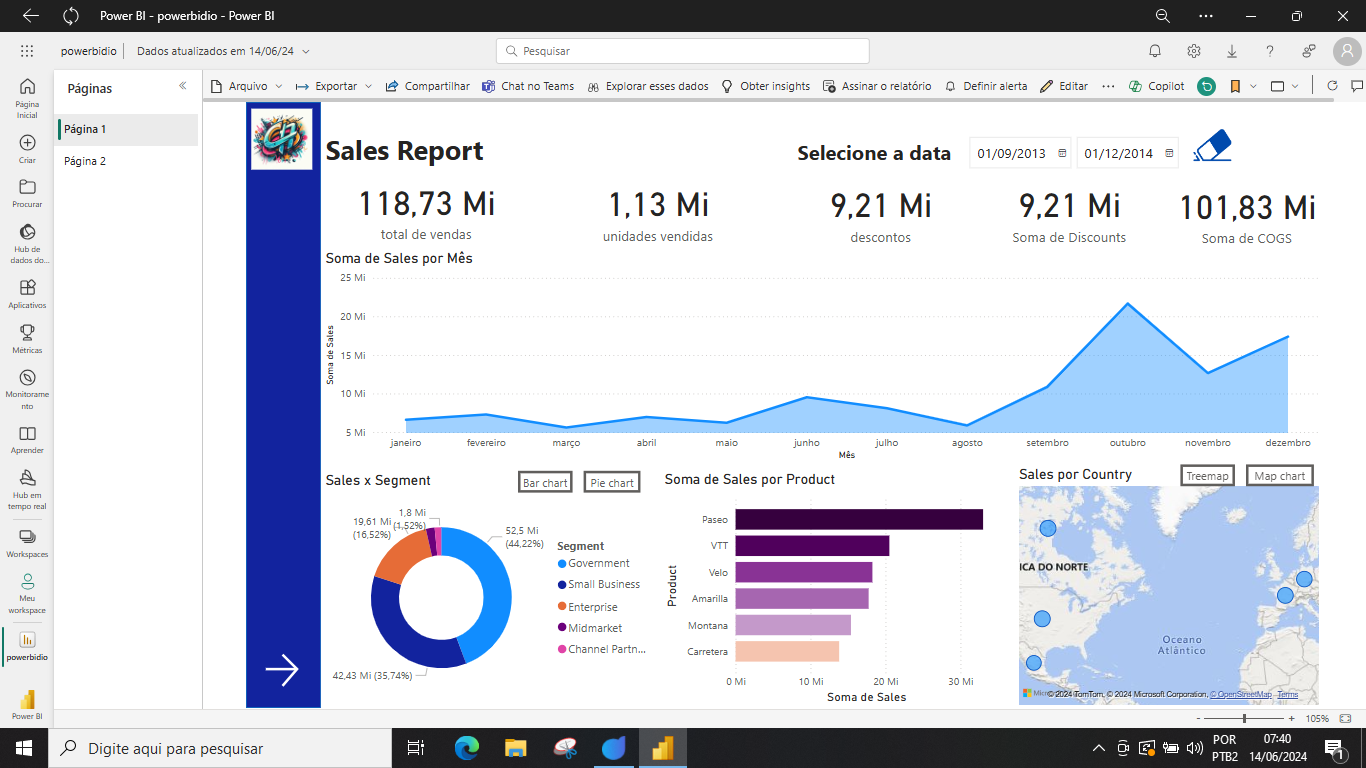

The dashboard page shown, as its layout file describes it:
{"tool":"powerbi","page":{"name":"Página 1","canvas":[1280,720],"ordinal":0},"visuals":[{"type":"slicer","fields":{"Values":["financials.Date"]},"box":[846.6,32,329.2,55.4],"z":0,"group":"g1"},{"type":"areaChart","fields":{"Category":["financials.Date.Variation.Hierarquia de datas.Mês"],"Y":["Sum(financials. Sales)"]},"box":[88.9,174.7,1191.1,255.7],"z":0},{"type":"map","title":"  Sales por Country","fields":{"Category":["financials.Country"],"Size":["Sum(financials. Sales)"]},"box":[913.6,431.3,366.4,289.7],"z":0,"group":"g2"},{"type":"clusteredBarChart","title":" Sales x Segment","fields":{"Y":["Sum(financials. Sales)"],"Category":["financials.Segment"]},"box":[88.9,438.3,403.1,280.5],"z":0,"group":"g3"},{"type":"textbox","box":[650.1,37,208.3,45.4],"z":1000,"group":"g1"},{"type":"card","fields":{"Values":["Sum(financials. Sales)"]},"box":[88.9,82.6,249.3,87.3],"z":1000},{"type":"actionButton","title":"Botão-bar","box":[322.4,437.7,64.8,25.9],"z":1500,"group":"g3"},{"type":"image","box":[1120.4,20.2,55.4,62.2],"z":2000,"group":"g1"},{"type":"card","fields":{"Values":["Sum(financials.Units Sold)"]},"box":[338.3,84.2,301.7,87.3],"z":2000},{"type":"actionButton","title":"Botão-map","box":[1188,430.6,80.6,25.9],"z":2000,"group":"g2"},{"type":"actionButton","title":"Botão-pie","box":[400.2,437.7,67.7,25.9],"z":2000,"group":"g3"},{"type":"actionButton","title":"Botão-treemap","box":[1110.3,430.6,64.8,25.9],"z":2500,"group":"g2"},{"type":"actionButton","box":[1120.4,32,55.4,40.3],"z":3000,"group":"g1"},{"type":"card","fields":{"Values":["Sum(financials.Discounts)"]},"box":[649.5,85.8,208,87.3],"z":3000},{"type":"card","fields":{"Values":["Sum(financials.Discounts)"]},"box":[857.6,85.8,239.8,87.3],"z":4000},{"type":"card","fields":{"Values":["Sum(financials.COGS)"]},"box":[1097.4,87.3,182.6,87.3],"z":5000},{"type":"clusteredBarChart","fields":{"Y":["Sum(financials. Sales)"],"Category":["financials.Product"]},"box":[492.3,438.3,420.8,281.1],"z":6000},{"type":"group","id":"g1","title":"filtro por data","box":[650.1,20.2,525.8,67.2],"z":7000},{"type":"textbox","box":[88.9,28.6,273.2,54],"z":8000},{"type":"group","id":"g2","title":"salesxpais","box":[913.2,430.4,366.8,290.6],"z":9000},{"type":"group","id":"g3","title":"salesxsegmento","box":[88.9,437.7,403.2,281.2],"z":10000},{"type":"shape","box":[0,0,88.9,719.4],"z":10001},{"type":"actionButton","box":[17.5,649.7,56.2,50.4],"z":10002},{"type":"image","box":[0,3.1,85.4,82.4],"z":10003}]}

Visuals, with their boxes on the page's 1280x720 design canvas (x1, y1, x2, y2). These are canvas units, not pixel positions in the 1366x768 screenshot, which may show the page scaled, cropped or inside an application window:
slicer - financials.Date: select_region(847, 32, 1176, 87)
areaChart - financials.Date.Variation.Hierarquia de datas.Mês x Sum(financials. Sales): select_region(89, 175, 1280, 430)
"  Sales por Country" map: select_region(914, 431, 1280, 721)
" Sales x Segment" clusteredBarChart: select_region(89, 438, 492, 719)
textbox: select_region(650, 37, 858, 82)
card - Sum(financials. Sales): select_region(89, 83, 338, 170)
"Botão-bar" actionButton: select_region(322, 438, 387, 464)
image: select_region(1120, 20, 1176, 82)
card - Sum(financials.Units Sold): select_region(338, 84, 640, 172)
"Botão-map" actionButton: select_region(1188, 431, 1269, 456)
"Botão-pie" actionButton: select_region(400, 438, 468, 464)
"Botão-treemap" actionButton: select_region(1110, 431, 1175, 456)
actionButton: select_region(1120, 32, 1176, 72)
card - Sum(financials.Discounts): select_region(650, 86, 858, 173)
card - Sum(financials.Discounts): select_region(858, 86, 1097, 173)
card - Sum(financials.COGS): select_region(1097, 87, 1280, 175)
clusteredBarChart - Sum(financials. Sales) x financials.Product: select_region(492, 438, 913, 719)
"filtro por data" group: select_region(650, 20, 1176, 87)
textbox: select_region(89, 29, 362, 83)
"salesxpais" group: select_region(913, 430, 1280, 721)
"salesxsegmento" group: select_region(89, 438, 492, 719)
shape: select_region(0, 0, 89, 719)
actionButton: select_region(18, 650, 74, 700)
image: select_region(0, 3, 85, 86)
